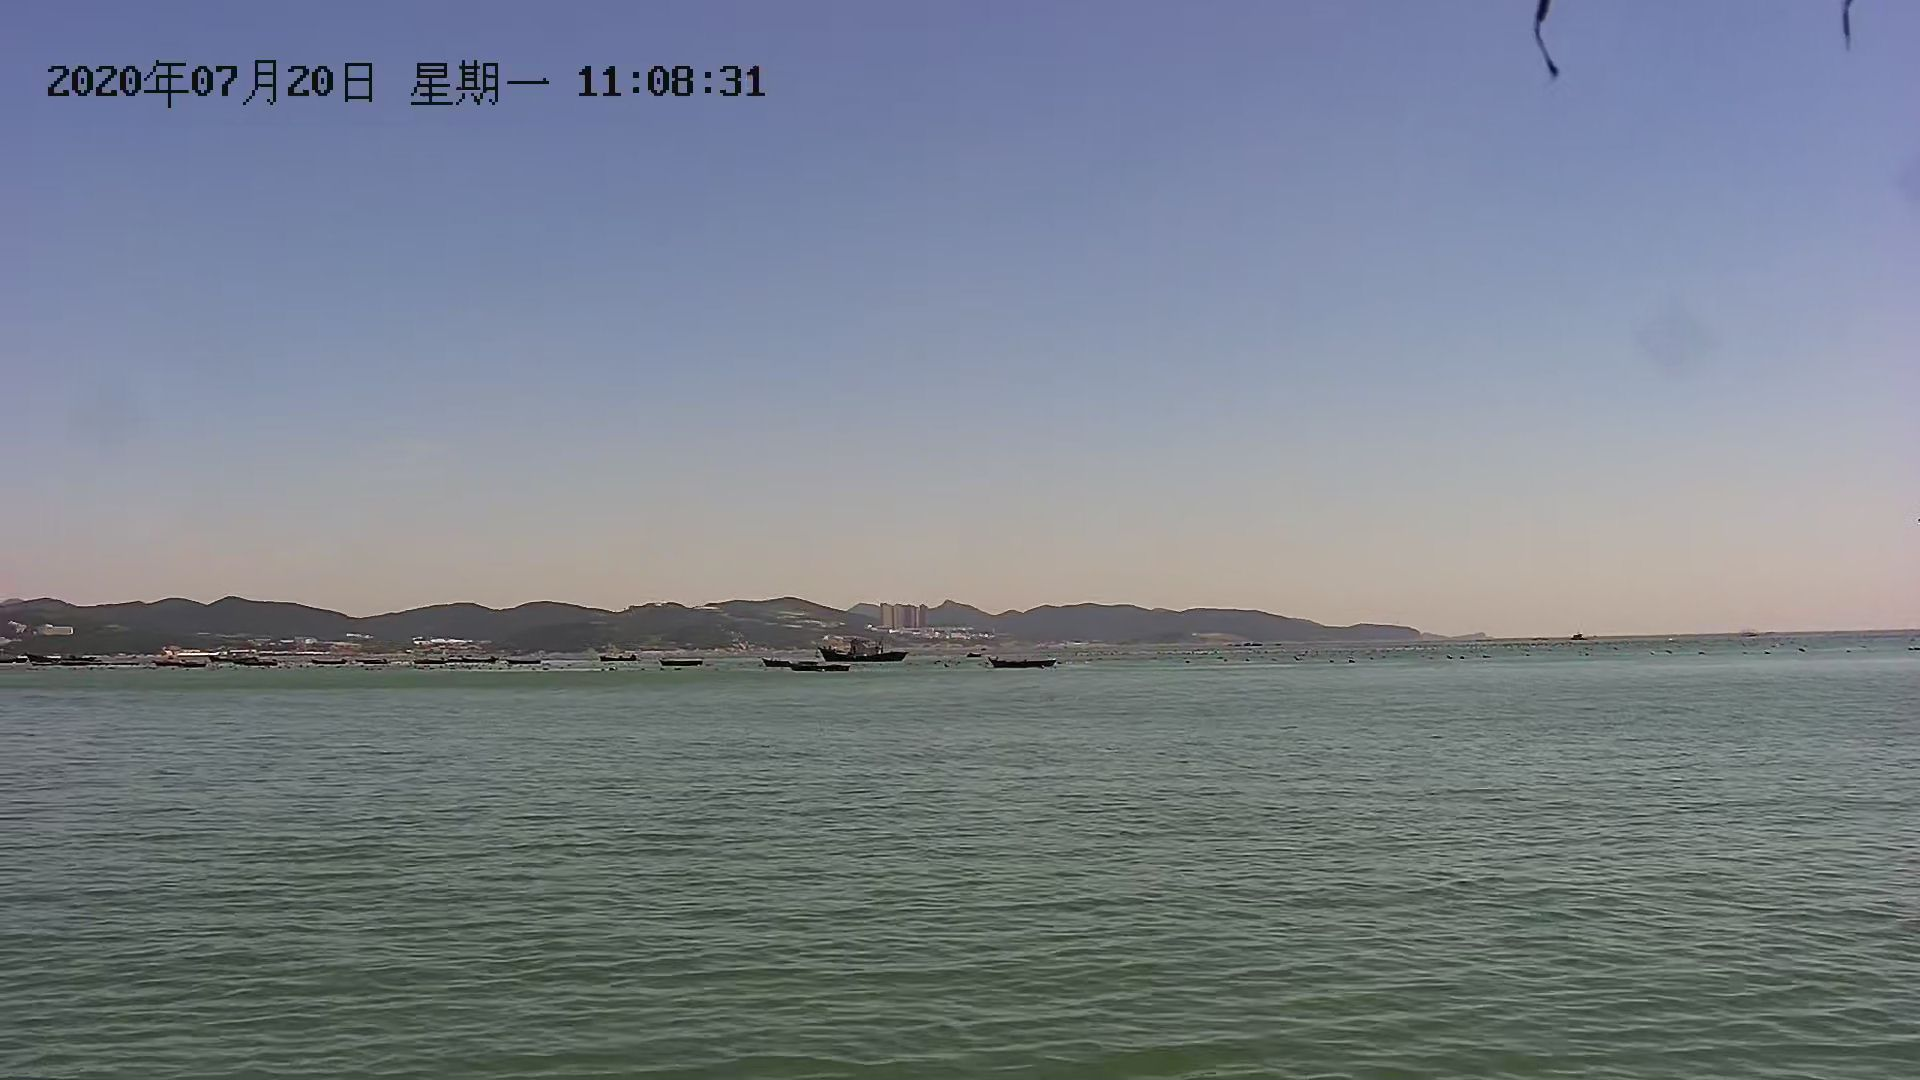boat: (825, 640, 916, 671), (760, 654, 837, 676), (981, 654, 1065, 673)
